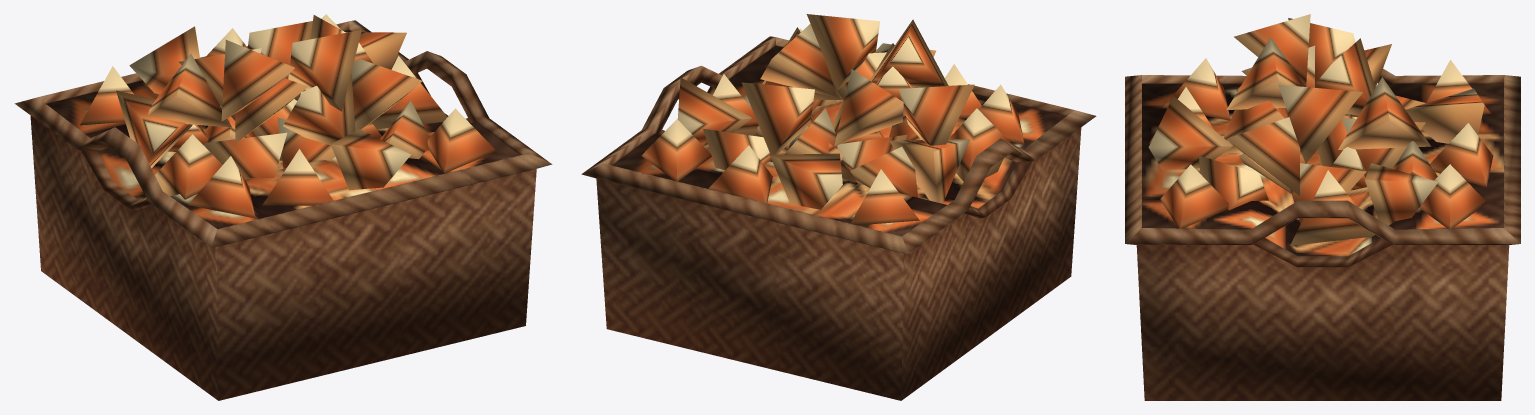
File: a_SWAmilk01.glb
3 renders of one model, left to right at view 1: azimuth 30°, elevation 25°; view 2: azimuth 150°, elevation 25°; view 3: azimuth 270°, elevation 25°, orthographic. The views are drawn at different scales.
Parts seen in each view (by area): view 1: a_SWAmilk01; view 2: a_SWAmilk01; view 3: a_SWAmilk01.
Boxes of the visible parts, left/top/right/bottom form: a_SWAmilk01: left=14, top=14, right=552, bottom=400; a_SWAmilk01: left=581, top=14, right=1096, bottom=400; a_SWAmilk01: left=1125, top=14, right=1520, bottom=400.
Size of the model in its own units: 0.8484 by 0.663 by 0.8484.
1 material, 1 textured.
